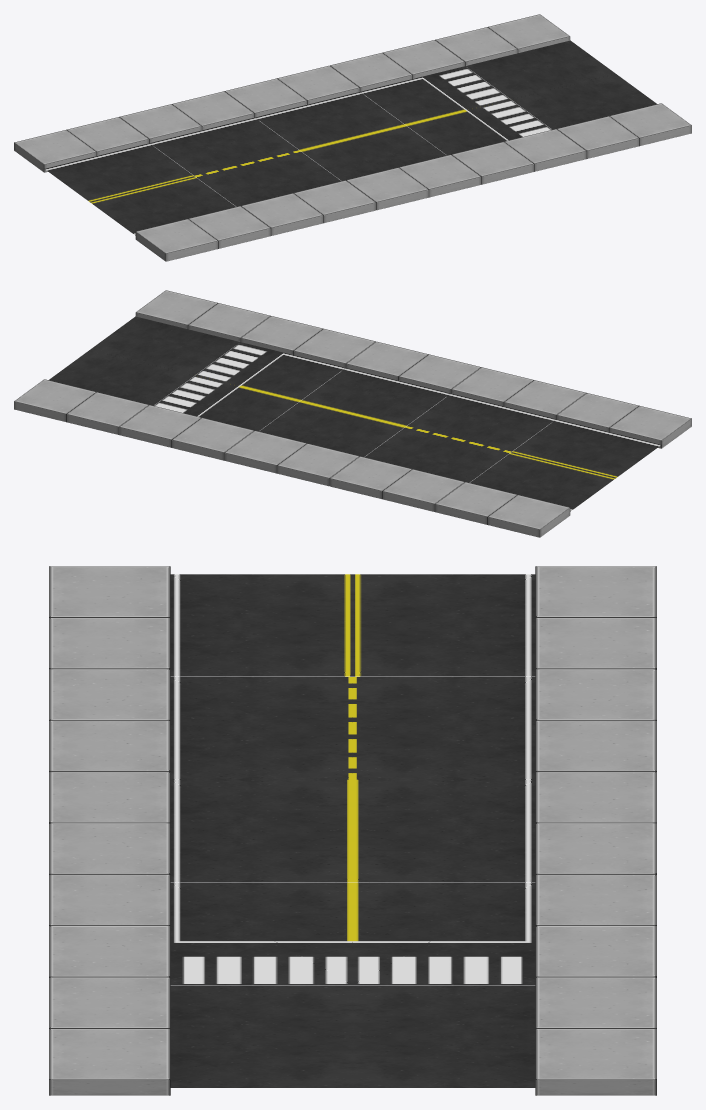
The model's file is estrada-faixa.glb.
3 renders of one model, top to bottom at view 1: azimuth 30°, elevation 25°; view 2: azimuth 150°, elevation 25°; view 3: azimuth 270°, elevation 25°, orthographic. The views are drawn at different scales.
Parts seen in each view (by area): view 1: Cube.012, Cube.006, Cube.002, Cube.009, Cube, Cube.013, Cube.007, Cube.001, Cube.010, Cube.004, Cube.014, Cube.003 (+3 smaller); view 2: Cube.012, Cube.006, Cube.002, Cube.009, Cube, Cube.014, Cube.008, Cube.003, Cube.011, Cube.005, Cube.013, Cube.001 (+3 smaller); view 3: Cube, Cube.012, Cube.009, Cube.002, Cube.006, Cube.011, Cube.010, Cube.008, Cube.007, Cube.003, Cube.001, Cube.014 (+3 smaller).
Boxes of the visible parts, <box> form: Cube.012: <box>44,143,235,235</box>; Cube.006: <box>360,66,551,155</box>; Cube.002: <box>150,117,341,206</box>; Cube.009: <box>465,40,657,129</box>; Cube: <box>255,92,446,180</box>; Cube.013: <box>135,206,270,261</box>; Cube.007: <box>451,129,586,184</box>; Cube.001: <box>346,154,481,210</box>; Cube.010: <box>557,103,691,158</box>; Cube.004: <box>241,180,375,235</box>; Cube.014: <box>14,117,149,172</box>; Cube.003: <box>224,65,359,120</box>; Cube.012: <box>470,419,661,511</box>; Cube.006: <box>154,342,345,431</box>; Cube.002: <box>364,393,556,482</box>; Cube.009: <box>48,316,239,405</box>; Cube: <box>259,368,450,456</box>; Cube.014: <box>435,482,570,537</box>; Cube.008: <box>119,405,254,460</box>; Cube.003: <box>224,430,359,486</box>; Cube.011: <box>14,379,148,434</box>; Cube.005: <box>330,456,464,511</box>; Cube.013: <box>556,393,691,448</box>; Cube.001: <box>346,341,481,396</box>; Cube: <box>170,779,535,882</box>; Cube.012: <box>170,574,535,676</box>; Cube.009: <box>170,985,535,1087</box>; Cube.002: <box>170,677,535,779</box>; Cube.006: <box>170,882,535,984</box>; Cube.011: <box>535,977,656,1095</box>; Cube.010: <box>49,977,170,1095</box>; Cube.008: <box>535,874,656,977</box>; Cube.007: <box>49,874,170,977</box>; Cube.003: <box>535,771,656,874</box>; Cube.001: <box>49,771,170,874</box>; Cube.014: <box>535,566,656,668</box>.
Bounding box in the file's own units: 19.99 × 0.2923 × 10.
Materials: 15 (15 with a texture image).
